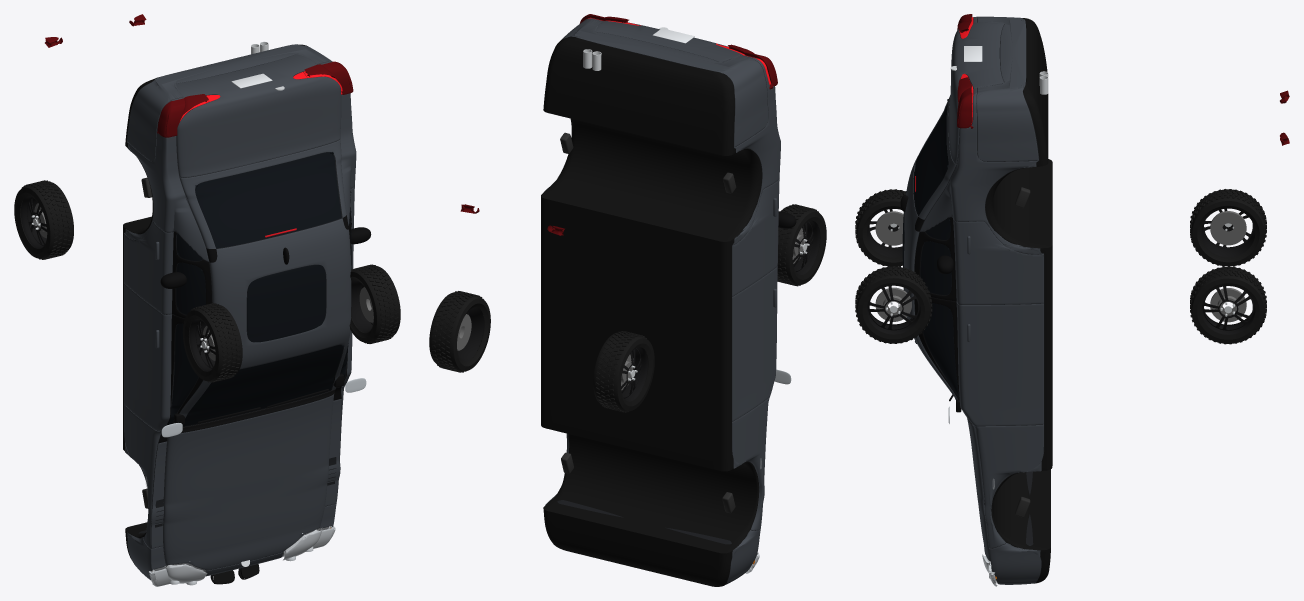
The model's file is BMW_325xi_2006_E90.fbx.
The picture shows the model from 3 angles, left to right: view 1: azimuth 30°, elevation 25°; view 2: azimuth 150°, elevation 25°; view 3: azimuth 270°, elevation 25°; orthographic projection. The views are drawn at different scales.
Visible parts, largest first — view 1: Hood, Trunk, Roof, Rear_Glass, Door_FR, Windshield, Sunroof, Bumper_Rear, Door_RR, Quarter_R, Chassis_Tub, Wheel_RR_Tire (+21 smaller); view 2: Underbody, Door_FR, Bumper_Rear, Door_RR, Wheel_RL_Tire, Wheel_RR_Tire, Fender_R, Quarter_R, Trunk, Wheel_FR_Tire, Wheel_RL_Tread, Wheel_RR_Tread (+6 smaller); view 3: Underbody, Door_FL, Door_RL, Bumper_Rear, Quarter_L, Fender_L, Trunk, Wheel_RL_Tire, Wheel_FL_Tire, Wheel_RR_Tire, Roof, Rear_Glass (+16 smaller).
Part boxes in pixels (left/top/right/bottom): Hood: left=163, top=394, right=333, bottom=570; Trunk: left=176, top=54, right=341, bottom=177; Roof: left=173, top=139, right=351, bottom=423; Rear_Glass: left=195, top=152, right=341, bottom=248; Door_FR: left=124, top=283, right=202, bottom=443; Windshield: left=182, top=344, right=343, bottom=426; Sunroof: left=247, top=265, right=325, bottom=342; Bumper_Rear: left=127, top=44, right=332, bottom=161; Door_RR: left=124, top=222, right=212, bottom=318; Quarter_R: left=124, top=97, right=209, bottom=261; Chassis_Tub: left=127, top=71, right=346, bottom=572; Wheel_RR_Tire: left=14, top=182, right=73, bottom=258; Underbody: left=541, top=36, right=762, bottom=586; Door_FR: left=732, top=266, right=777, bottom=421; Bumper_Rear: left=561, top=19, right=768, bottom=147; Door_RR: left=732, top=179, right=779, bottom=296; Wheel_RL_Tire: left=429, top=292, right=490, bottom=371; Wheel_RR_Tire: left=593, top=332, right=654, bottom=411; Fender_R: left=732, top=397, right=769, bottom=530; Quarter_R: left=732, top=55, right=780, bottom=245; Trunk: left=595, top=21, right=742, bottom=61; Wheel_FR_Tire: left=777, top=206, right=826, bottom=285; Wheel_RL_Tread: left=431, top=291, right=484, bottom=372; Wheel_RR_Tread: left=595, top=331, right=648, bottom=412; Underbody: left=985, top=18, right=1052, bottom=583; Door_FL: left=914, top=297, right=1043, bottom=425; Door_RL: left=914, top=217, right=1043, bottom=304; Bumper_Rear: left=977, top=16, right=1038, bottom=161; Quarter_L: left=920, top=88, right=1043, bottom=254; Fender_L: left=973, top=424, right=1043, bottom=548; Trunk: left=948, top=22, right=1003, bottom=163; Wheel_RL_Tire: left=1191, top=267, right=1265, bottom=343; Wheel_FL_Tire: left=856, top=266, right=931, bottom=343; Wheel_RR_Tire: left=1191, top=189, right=1265, bottom=266; Roof: left=904, top=95, right=965, bottom=415; Rear_Glass: left=914, top=99, right=948, bottom=215.
Bounding box in the file's own units: 1.98 × 4.66 × 3.58.
